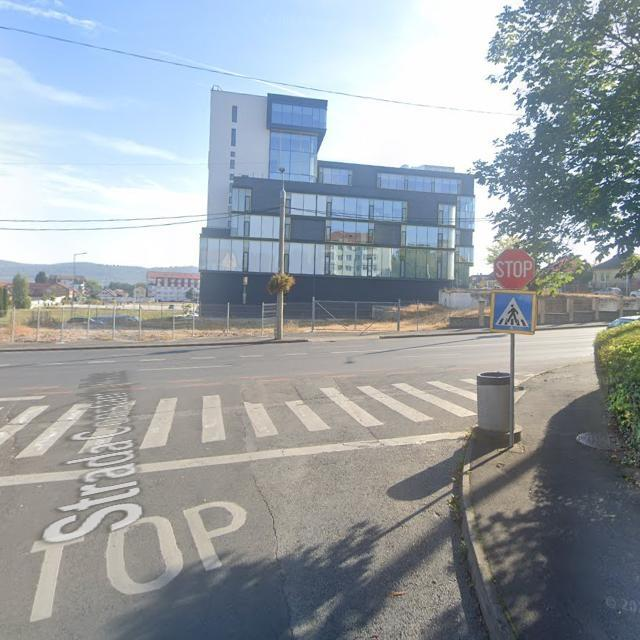info_crosswalk: (490, 289, 536, 335)
prio_stop: (494, 248, 536, 289)
